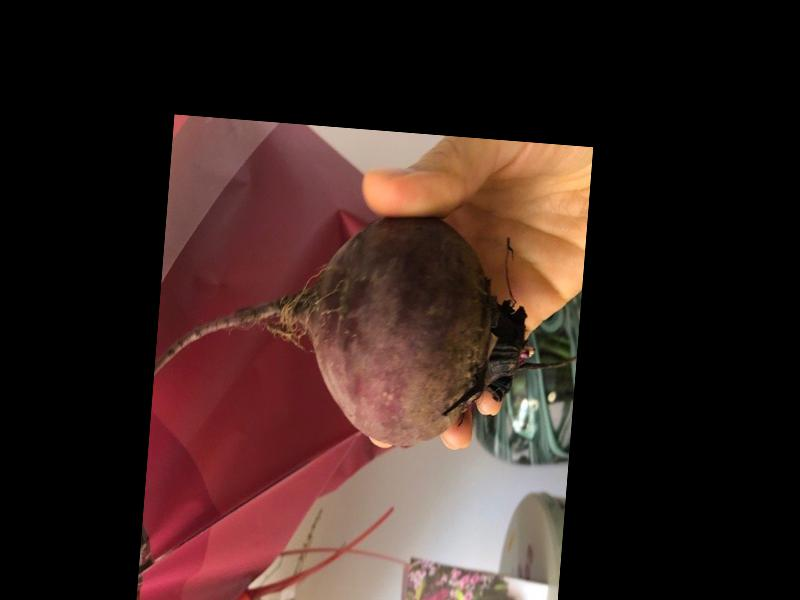Beet: (151, 196, 583, 459)
